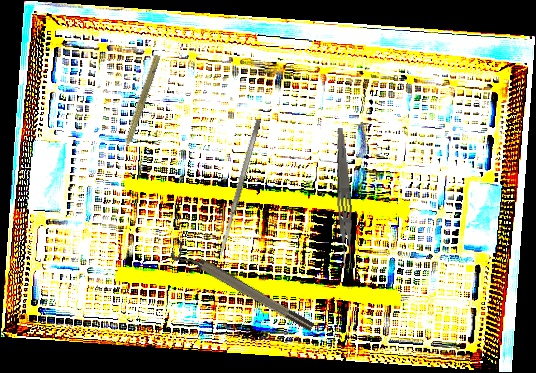Dressing Forceps: (331, 127, 356, 270)
Fixation Ring: (168, 239, 317, 340)
Handpiece: (114, 52, 163, 163)
Spatula Surgical: (216, 118, 263, 257)
